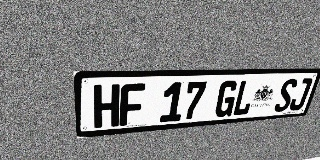1: (160, 82, 186, 123)
7: (181, 81, 207, 121)
F: (120, 83, 145, 126)
G: (213, 80, 240, 118)
H: (93, 84, 120, 128)
J: (288, 78, 313, 111)
L: (231, 80, 257, 116)
S: (273, 78, 299, 112)
